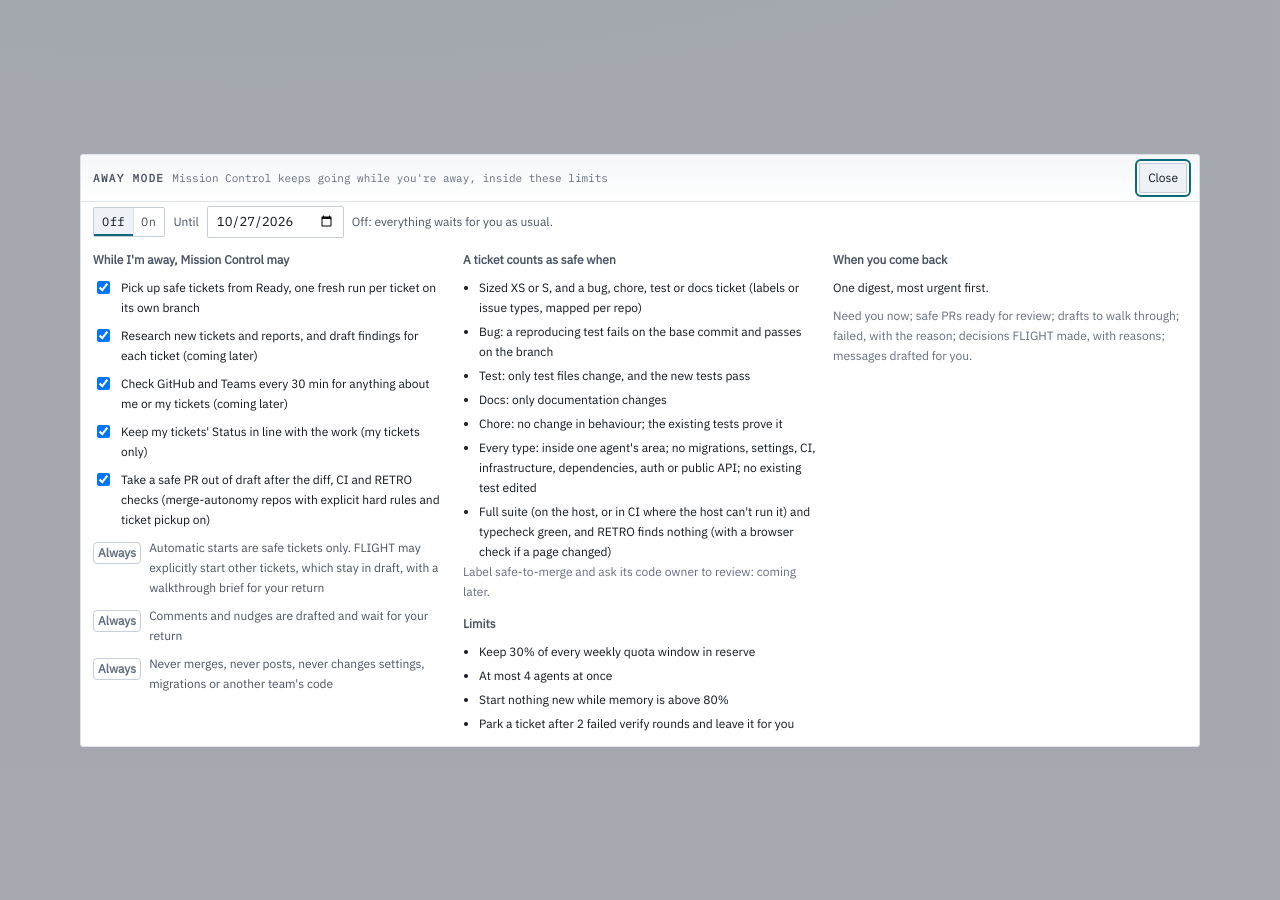
Test: AwayModal › a checkbox saves the whole record with that one permission changed
Click the checkbox labelled "Pick up safe tickets": (104, 287) [97,280,110,294]
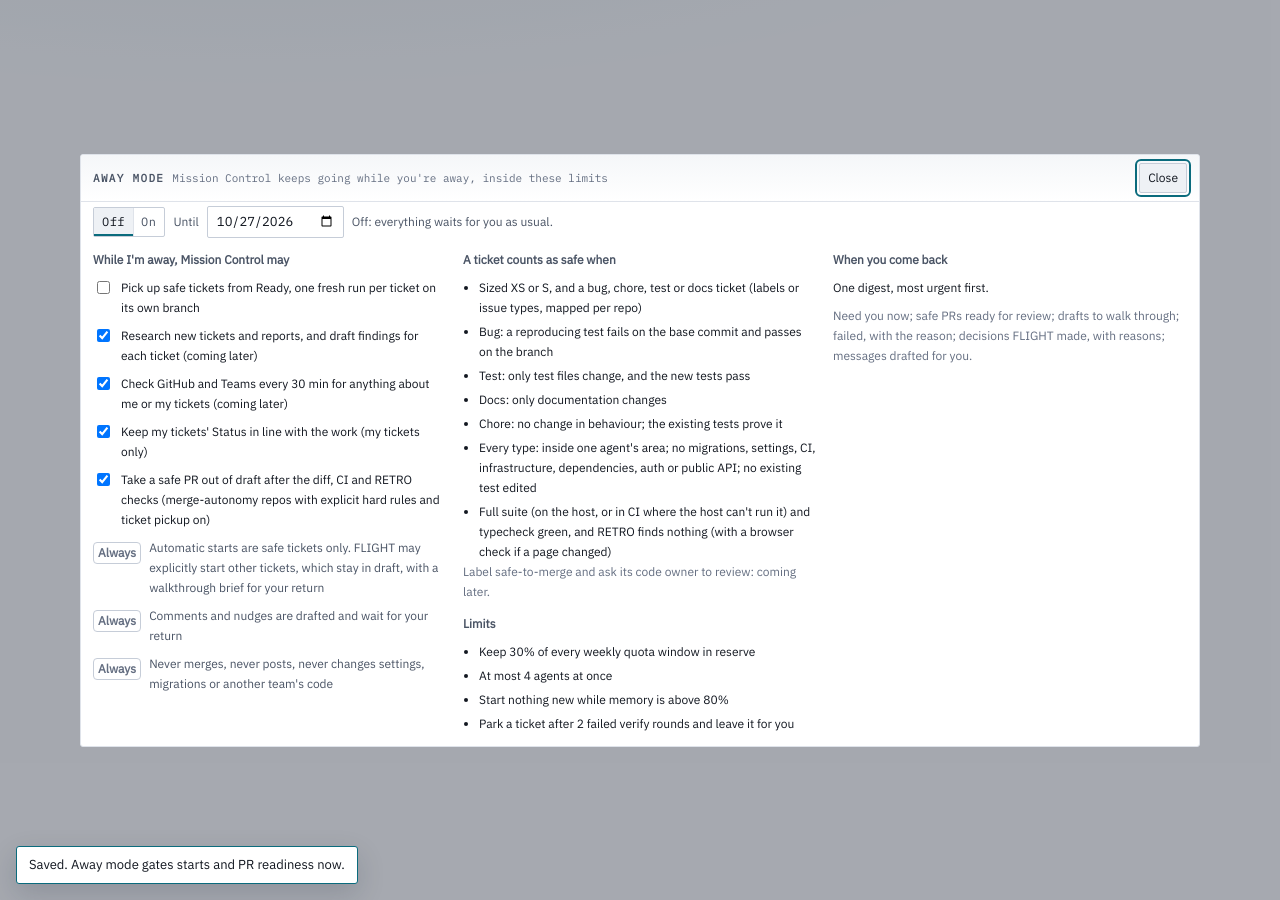
Check: the checkbox labelled "Pick up safe tickets" is not checked, box [97,280,110,294]
Check: the message with id "toast" reads "Saved. Away mode gates starts and PR readiness now.", box [29,856,345,873]
